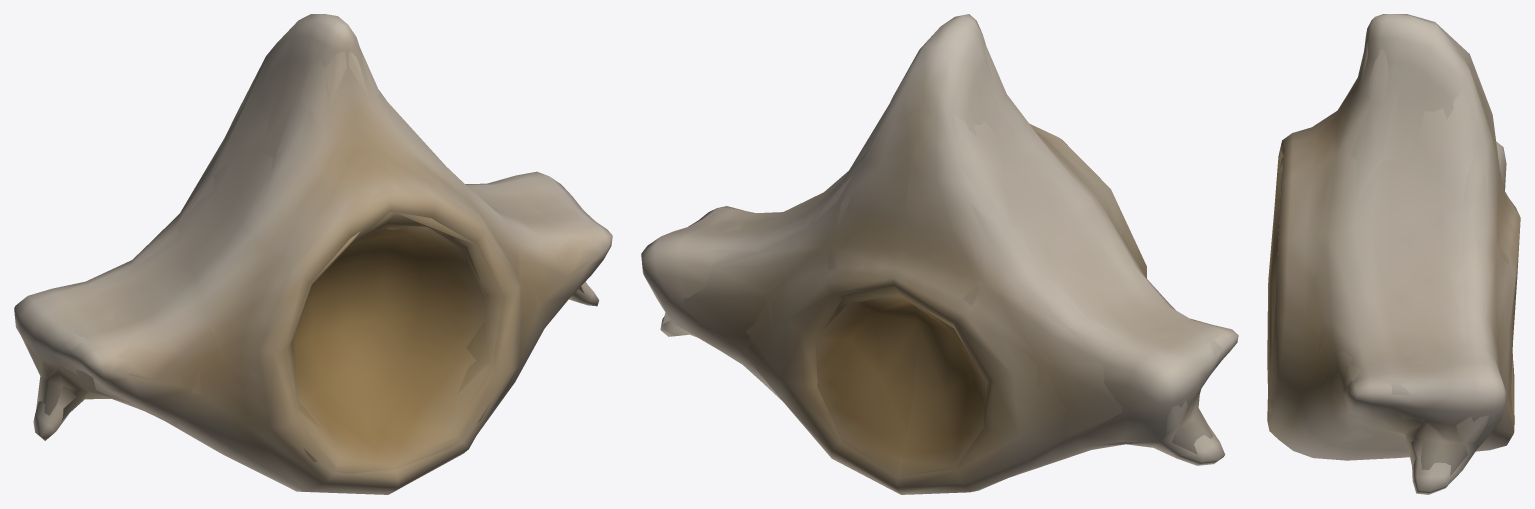
Rendered from vertebrae caudales 02.fbx.
3 renders of one model, left to right at view 1: azimuth 30°, elevation 25°; view 2: azimuth 150°, elevation 25°; view 3: azimuth 270°, elevation 25°, orthographic. The views are drawn at different scales.
Visible parts, largest first — view 1: vertebrae caudales 02, vertebrae caudales 02 low; view 2: vertebrae caudales 02, vertebrae caudales 02 low; view 3: vertebrae caudales 02, vertebrae caudales 02 low.
Part boxes in pixels (x1,y1,x2,y2): vertebrae caudales 02: (14, 14, 612, 494); vertebrae caudales 02 low: (21, 49, 595, 473); vertebrae caudales 02: (641, 14, 1238, 494); vertebrae caudales 02 low: (663, 44, 1222, 476); vertebrae caudales 02: (1267, 14, 1520, 494); vertebrae caudales 02 low: (1267, 38, 1513, 476).
Size of the model in its own units: 3.7 by 2.81 by 1.51.
1 material, 1 textured.
